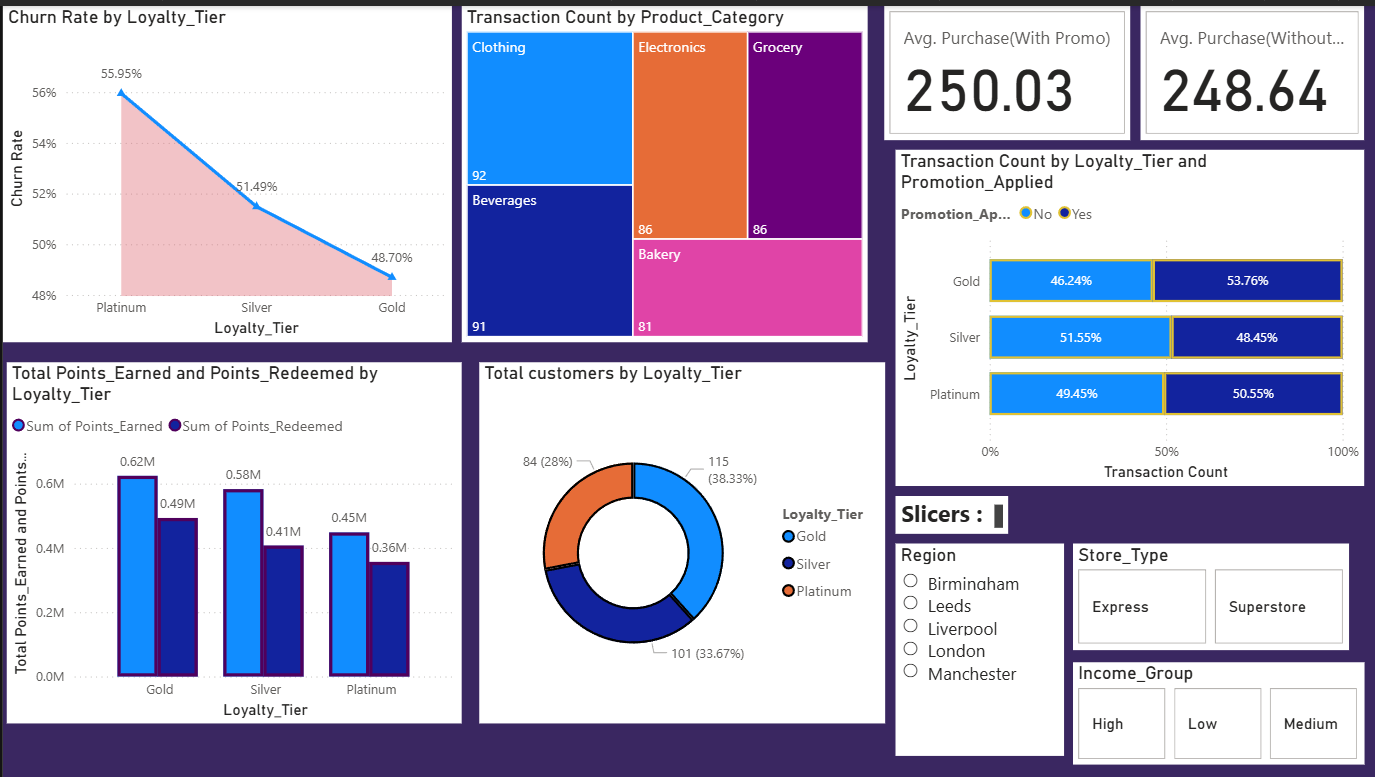

What the dashboard file says about the page in this screenshot:
{"tool":"powerbi","page":{"name":"Dashboard 2","canvas":[1280,720],"ordinal":7},"visuals":[{"type":"treemap","fields":{"Group":["Customer_Transactions.Product_Category"],"Values":["Measures (2).Transaction Count"]},"box":[426.7,0,377.9,312.8],"z":0},{"type":"areaChart","fields":{"Category":["Loyalty_Program.Loyalty_Tier"],"Y":["Measures (2).Churn Rate"]},"box":[0,0,417.4,312.8],"z":1000},{"type":"clusteredColumnChart","title":"Total Points_Earned and Points_Redeemed by Loyalty_Tier","fields":{"Y":["Sum(Loyalty_Program.Points_Earned)","Sum(Loyalty_Program.Points_Redeemed)"],"Category":["Loyalty_Program.Loyalty_Tier"]},"box":[3.5,331.4,423.3,336],"z":2000},{"type":"donutChart","fields":{"Y":["Measures (2).Total customers"],"Category":["Loyalty_Program.Loyalty_Tier"]},"box":[443,331.4,377.9,336],"z":3000},{"type":"cardVisual","fields":{"Data":["Measures (2).Promo Avg. Purchase"]},"box":[819.8,0,229.1,124.4],"z":4000},{"type":"cardVisual","fields":{"Data":["Measures (2).Non-Promo Avg. Purchase"]},"box":[1058.1,0,208.1,124.4],"z":5000},{"type":"hundredPercentStackedBarChart","fields":{"Category":["Loyalty_Program.Loyalty_Tier"],"Series":["Customer_Transactions.Promotion_Applied"],"Y":["Measures (2).Transaction Count"]},"box":[830.2,133.7,436,312.8],"z":6000},{"type":"listSlicer","fields":{"Values":["Customer_Demographics.Region"]},"box":[830.2,459.3,157,197.7],"z":7000},{"type":"advancedSlicerVisual","fields":{"Values":["Store_Locations.Store_Type"]},"box":[1000,459.3,257,98.8],"z":8000},{"type":"advancedSlicerVisual","fields":{"Values":["Customer_Demographics.Income_Group"]},"box":[995.4,572.1,270.9,95.3],"z":9000}]}

Visuals, with their boxes in screenshot pixels (x1, y1, x2, y2), scaled from the page's 1280x720 canvas onto the 1375x777 screenshot:
treemap - Customer_Transactions.Product_Category x Measures (2).Transaction Count: [458,0,864,338]
areaChart - Loyalty_Program.Loyalty_Tier x Measures (2).Churn Rate: [0,0,448,338]
"Total Points_Earned and Points_Redeemed by Loyalty_Tier" clusteredColumnChart: [4,358,458,720]
donutChart - Measures (2).Total customers x Loyalty_Program.Loyalty_Tier: [476,358,882,720]
cardVisual - Measures (2).Promo Avg. Purchase: [881,0,1127,134]
cardVisual - Measures (2).Non-Promo Avg. Purchase: [1137,0,1360,134]
hundredPercentStackedBarChart - Loyalty_Program.Loyalty_Tier x Customer_Transactions.Promotion_Applied: [892,144,1360,482]
listSlicer - Customer_Demographics.Region: [892,496,1060,709]
advancedSlicerVisual - Store_Locations.Store_Type: [1074,496,1350,602]
advancedSlicerVisual - Customer_Demographics.Income_Group: [1069,617,1360,720]
